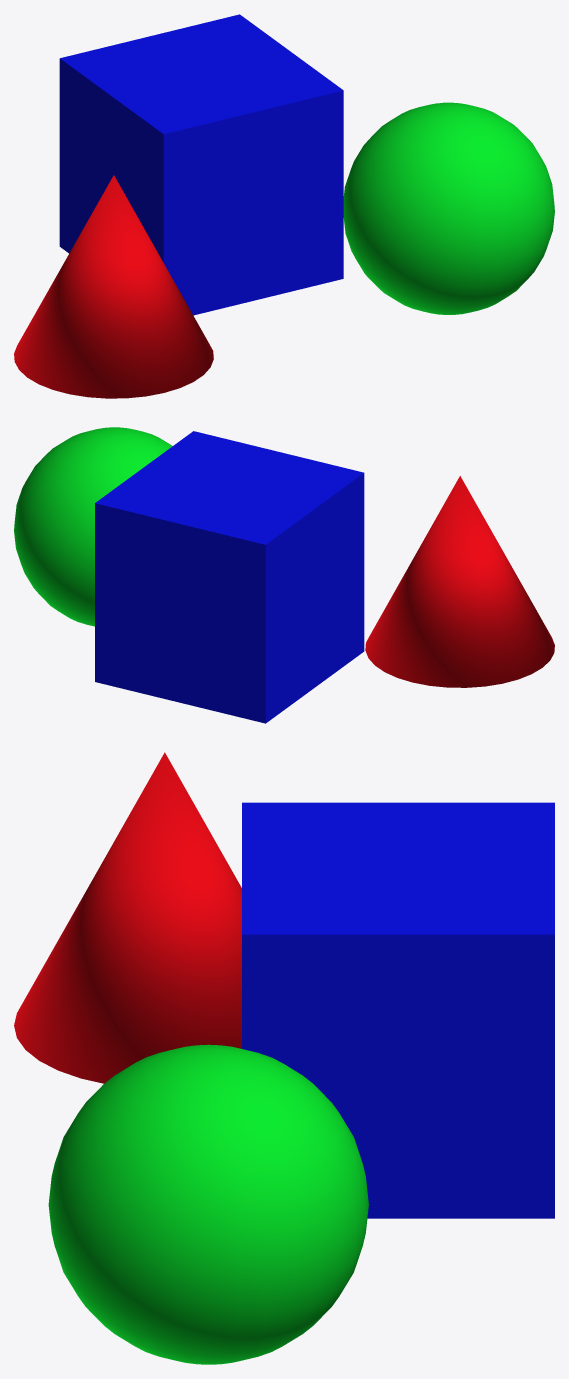
The picture shows the model from 3 angles, top to bottom: view 1: azimuth 30°, elevation 25°; view 2: azimuth 150°, elevation 25°; view 3: azimuth 270°, elevation 25°; orthographic projection. The views are drawn at different scales.
Parts seen in each view (by area): view 1: Cube, Sphere, Cone; view 2: Cube, Cone, Sphere; view 3: Cube, Sphere, Cone.
Boxes of the visible parts, x1,y1,x2,y2 form: Cube: [59, 14, 343, 315]; Sphere: [343, 102, 554, 314]; Cone: [14, 175, 213, 398]; Cube: [95, 431, 364, 723]; Cone: [365, 476, 554, 687]; Sphere: [14, 427, 172, 626]; Cube: [242, 802, 554, 1218]; Sphere: [48, 1044, 368, 1364]; Cone: [14, 752, 241, 1083].
Size of the model in its own units: 10.7 by 4.44 by 6.3.
